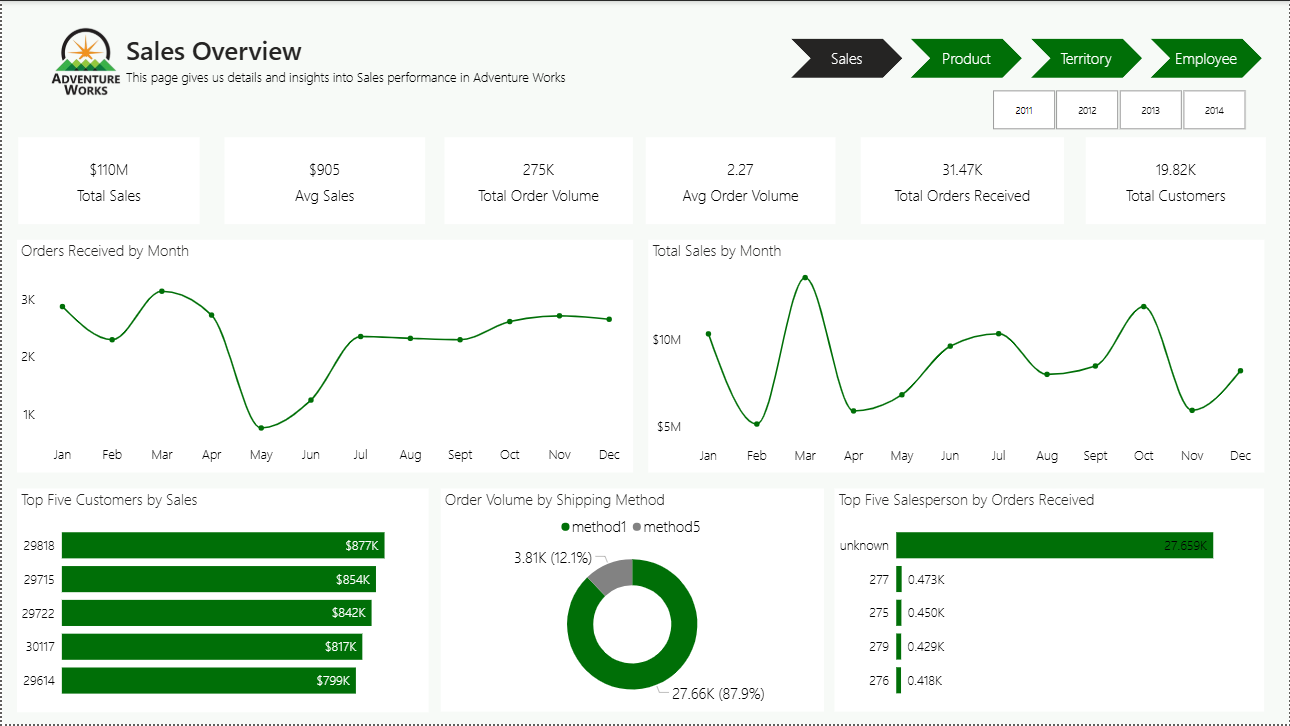

The dashboard page shown, as its layout file describes it:
{"tool":"powerbi","page":{"name":"Sales","canvas":[1600,900],"ordinal":0},"visuals":[{"type":"lineChart","fields":{"Category":["Date Table.Month Name"],"Y":["Sum(Sales_SalesOrderHeader.SubTotal)"]},"box":[803.5,296.5,766,289.7],"z":0},{"type":"textbox","box":[149.3,34.2,629.8,60.6],"z":1000},{"type":"textbox","box":[149.3,77.7,629.8,60.6],"z":2000},{"type":"pageNavigator","box":[982.7,48.2,589.3,42],"z":3000},{"type":"image","box":[48.2,23.3,112,104.2],"z":4000},{"type":"clusteredBarChart","title":"Top Five Salesperson by Orders Received","fields":{"Category":["Sales_SalesOrderHeader.SalesPersonID"],"Y":["Count(Sales_SalesOrderHeader.SalesOrderID)"]},"box":[1036,606.4,534,278],"z":5000},{"type":"donutChart","fields":{"Category":["Sales_SalesOrderHeader.ShipMethodID"],"Y":["CountNonNull(Sales_SalesOrderHeader.SalesOrderID)"]},"box":[545.8,606.4,476.7,278],"z":6000},{"type":"lineChart","fields":{"Category":["Date Table.Month Name"],"Y":["Count(Sales_SalesOrderDetail.SalesOrderID)"]},"box":[18.7,297,766.6,289.2],"z":7000},{"type":"barChart","title":"Top Five Customers by Sales","fields":{"Category":["Sales_SalesOrderHeader.CustomerID"],"Y":["Sum(Sales_SalesOrderDetail.LineTotal)"]},"box":[18.7,606.4,512,278.3],"z":8000},{"type":"cardVisual","fields":{"Data":["Sum(Sales_SalesOrderDetail.LineTotal)"]},"box":[18.7,169.5,293.9,108.8],"z":9000},{"type":"cardVisual","fields":{"Data":["Avg(Sales_SalesOrderDetail.LineTotal)"]},"box":[338.2,169.5,295.4,108.8],"z":10000},{"type":"cardVisual","fields":{"Data":["Sum(Sales_SalesOrderDetail.OrderQty)"]},"box":[659.3,169.5,289.2,108.8],"z":11000},{"type":"cardVisual","fields":{"Data":["Count(Sales_SalesOrderDetail.SalesOrderID)"]},"box":[974.2,169.5,273.7,108.8],"z":12000},{"type":"cardVisual","fields":{"Data":["Count(Sales_Customer.CustomerID)"]},"box":[1273.5,169.5,295.4,108.8],"z":13000},{"type":"card","fields":{"Values":["Sales_SalesOrderDetail.MoM % sales"]},"box":[208.2,187.7,91.1,70.6],"z":14000},{"type":"card","fields":{"Values":["Sales_SalesOrderDetail.YoY % Order Qty"]},"box":[842,187.7,94.8,70.6],"z":15000},{"type":"card","fields":{"Values":["Sales_SalesOrderDetail.MoM % orders"]},"box":[1128.3,187.7,115.2,70.6],"z":16000},{"type":"card","fields":{"Values":["_YoY.YoY % avg sales value"]},"box":[527.9,184,105.9,78.1],"z":17000},{"type":"advancedSlicerVisual","fields":{"Values":["Date Table.Year"]},"box":[1069.8,104.2,494.5,57.5],"z":18000}]}

Visuals, with their boxes in screenshot pixels (x1, y1, x2, y2), scaled from the page's 1600x900 canvas onto the 1290x726 screenshot:
lineChart - Date Table.Month Name x Sum(Sales_SalesOrderHeader.SubTotal): (648,239,1265,473)
textbox: (120,28,628,76)
textbox: (120,63,628,112)
pageNavigator: (792,39,1267,73)
image: (39,19,129,103)
"Top Five Salesperson by Orders Received" clusteredBarChart: (835,489,1266,713)
donutChart - Sales_SalesOrderHeader.ShipMethodID x CountNonNull(Sales_SalesOrderHeader.SalesOrderID): (440,489,824,713)
lineChart - Date Table.Month Name x Count(Sales_SalesOrderDetail.SalesOrderID): (15,240,633,473)
"Top Five Customers by Sales" barChart: (15,489,428,714)
cardVisual - Sum(Sales_SalesOrderDetail.LineTotal): (15,137,252,224)
cardVisual - Avg(Sales_SalesOrderDetail.LineTotal): (273,137,511,224)
cardVisual - Sum(Sales_SalesOrderDetail.OrderQty): (532,137,765,224)
cardVisual - Count(Sales_SalesOrderDetail.SalesOrderID): (785,137,1006,224)
cardVisual - Count(Sales_Customer.CustomerID): (1027,137,1265,224)
card - Sales_SalesOrderDetail.MoM % sales: (168,151,241,208)
card - Sales_SalesOrderDetail.YoY % Order Qty: (679,151,755,208)
card - Sales_SalesOrderDetail.MoM % orders: (910,151,1003,208)
card - _YoY.YoY % avg sales value: (426,148,511,211)
advancedSlicerVisual - Date Table.Year: (863,84,1261,130)
